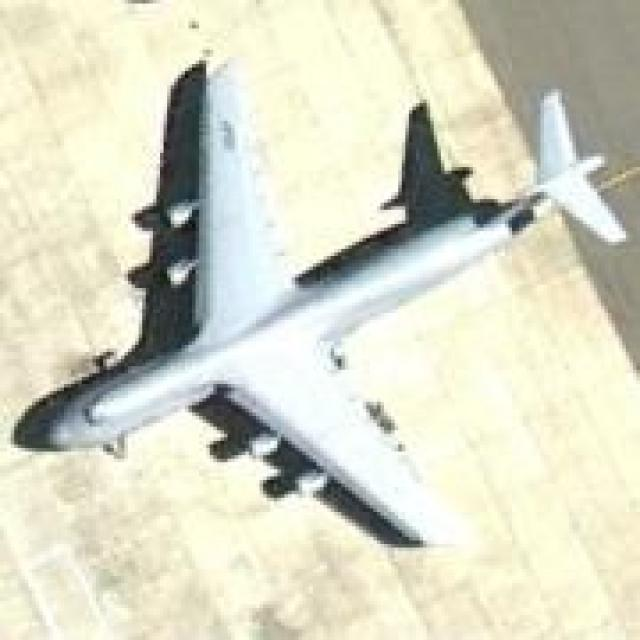C-5_TopDown: (12, 46, 633, 554)
